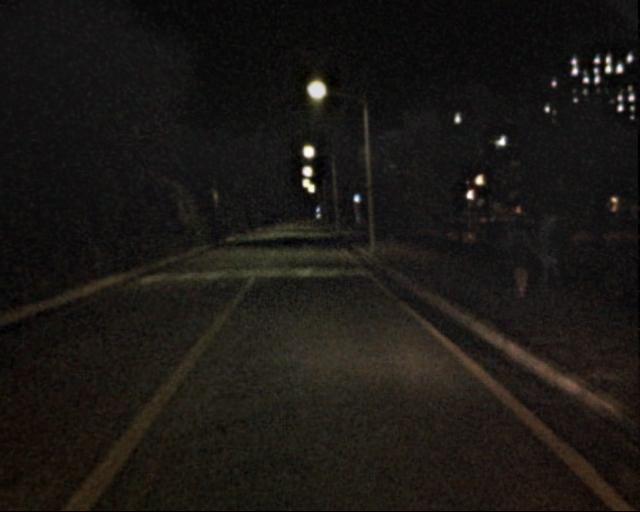person: (498, 211, 541, 304), (532, 208, 569, 298)
